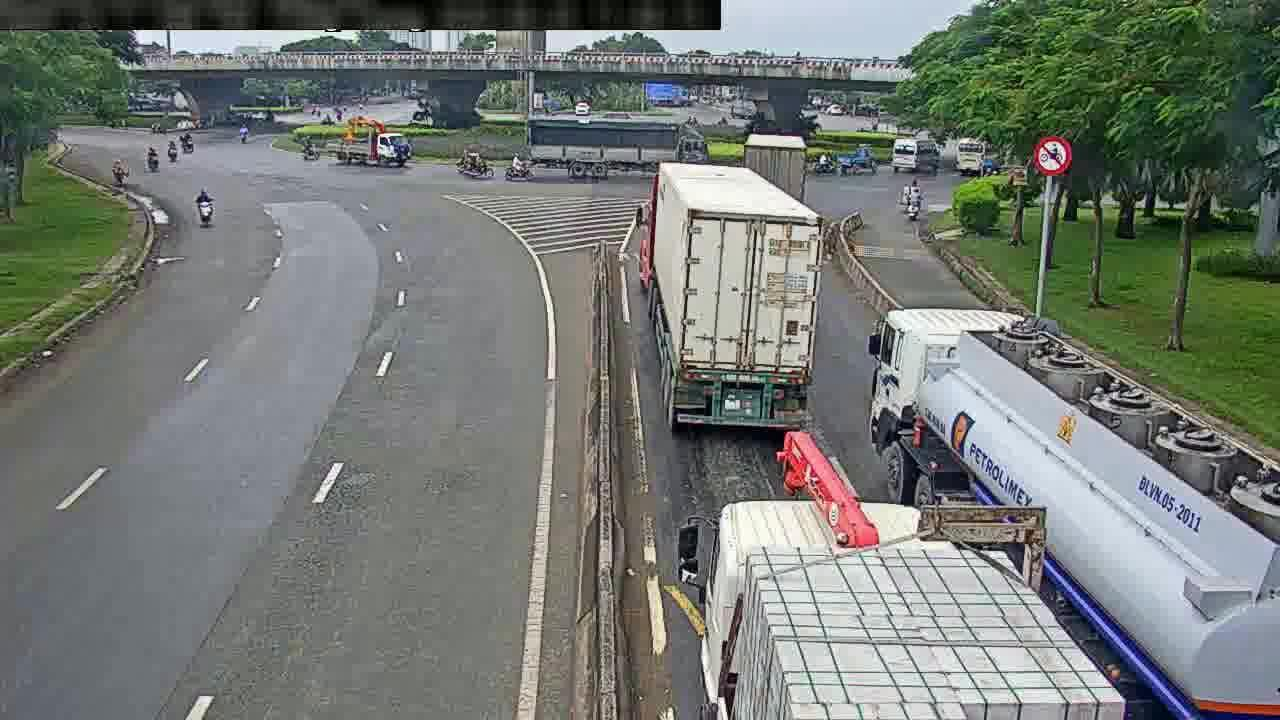14: (892, 135, 945, 176), (954, 138, 993, 178)
8: (870, 286, 1280, 720), (636, 152, 819, 439), (525, 110, 712, 176), (325, 116, 420, 173), (743, 127, 808, 205)
motorbike: (191, 185, 221, 232), (460, 152, 498, 181), (504, 156, 538, 183), (904, 188, 927, 221), (898, 179, 924, 207)
